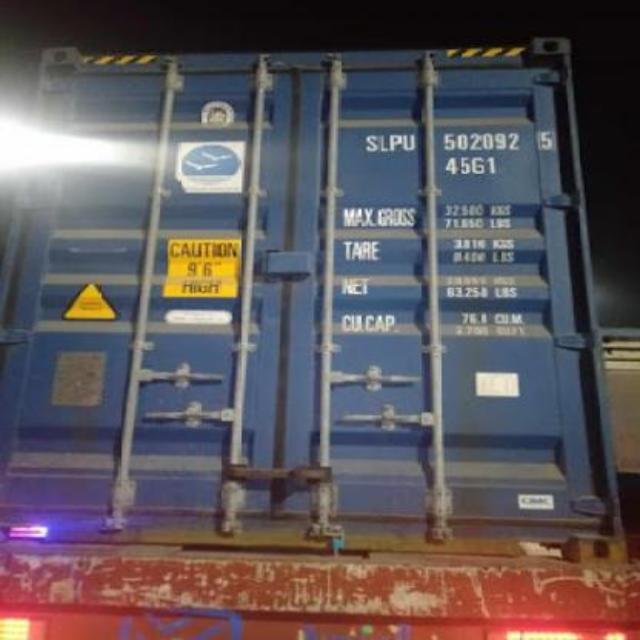0: (456, 132, 469, 152), (484, 130, 496, 150)
2: (468, 130, 484, 152), (508, 130, 522, 154)
5: (536, 130, 558, 150), (442, 132, 456, 152)
9: (494, 130, 510, 152)
L: (378, 132, 392, 152)
P: (388, 132, 402, 152)
S: (366, 132, 378, 152)
U: (400, 132, 418, 152)
